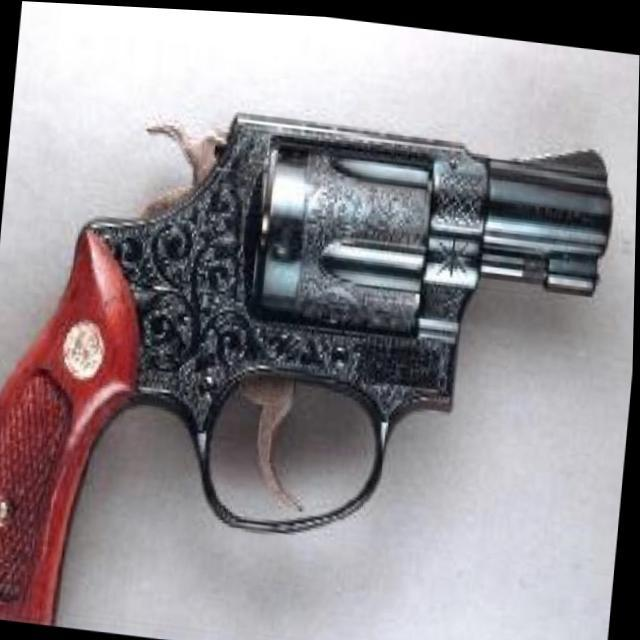weapon: (0, 71, 619, 640)
